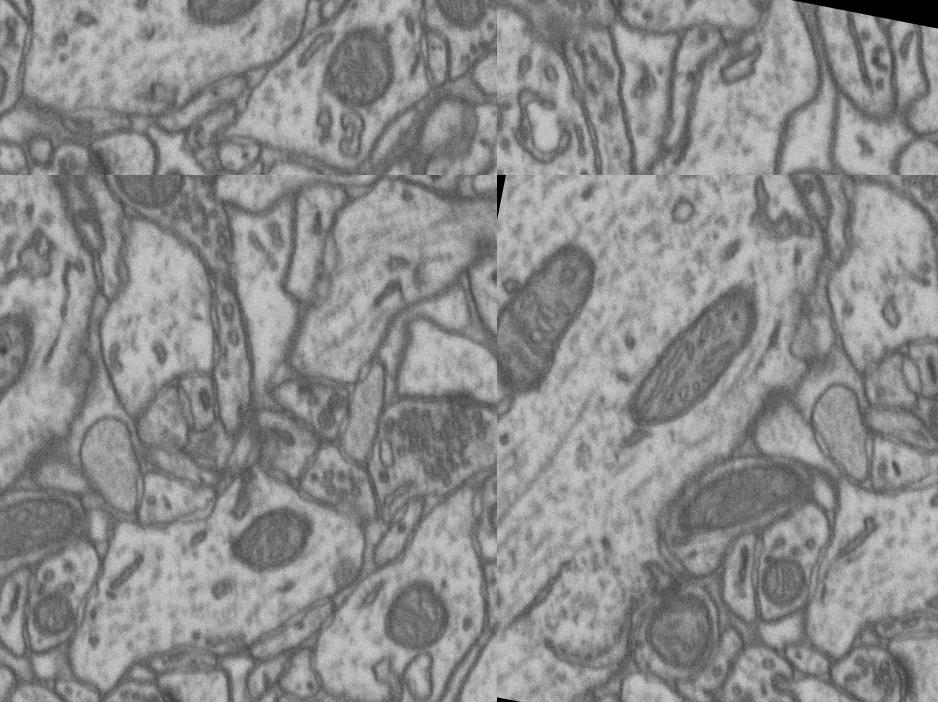mitochondria: (612, 257, 772, 456), (652, 429, 816, 575), (497, 224, 614, 419), (309, 11, 412, 126), (0, 467, 91, 588), (630, 578, 730, 682), (0, 283, 50, 488), (222, 488, 323, 588), (370, 562, 466, 664), (17, 574, 88, 658), (93, 175, 202, 228), (750, 546, 818, 625), (180, 0, 278, 49), (417, 0, 497, 50), (0, 47, 28, 136), (471, 483, 497, 563)
